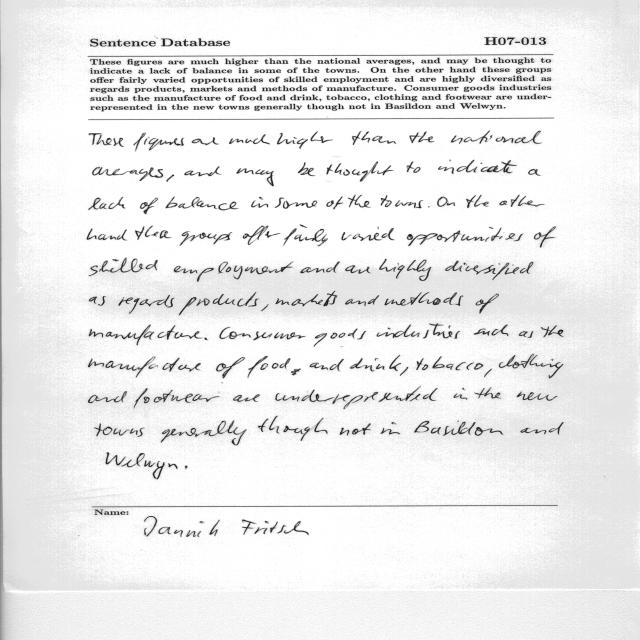word: (276, 387, 438, 409), (174, 262, 293, 282), (89, 325, 202, 346), (88, 357, 201, 378), (407, 227, 523, 246), (161, 421, 247, 446), (106, 452, 178, 479), (179, 292, 259, 315), (258, 416, 328, 441), (134, 388, 220, 408), (445, 261, 533, 280), (499, 355, 563, 379), (326, 162, 394, 182), (414, 421, 504, 436), (377, 323, 460, 339), (89, 258, 158, 276), (451, 131, 542, 144), (379, 259, 431, 281), (220, 327, 306, 340), (438, 160, 517, 174), (385, 292, 464, 306), (119, 295, 174, 314), (277, 131, 333, 149), (93, 167, 163, 181), (248, 356, 291, 378), (416, 357, 483, 371), (166, 197, 238, 210), (314, 329, 366, 347), (276, 291, 338, 306), (284, 225, 328, 246), (134, 133, 184, 151), (350, 355, 401, 371), (87, 227, 144, 241), (180, 231, 232, 246), (342, 227, 395, 241), (243, 226, 281, 245), (95, 423, 144, 437), (237, 169, 274, 187), (352, 131, 396, 145), (216, 357, 245, 378), (521, 422, 564, 435), (381, 195, 423, 208), (500, 195, 545, 207), (89, 133, 124, 147), (89, 197, 126, 210), (300, 261, 340, 273), (88, 391, 127, 403), (275, 198, 317, 209), (534, 227, 556, 248), (476, 294, 499, 313), (309, 359, 344, 371), (229, 135, 270, 145), (474, 325, 509, 336), (345, 295, 379, 306), (340, 424, 371, 436), (184, 167, 221, 177), (517, 392, 558, 401), (145, 226, 171, 239), (410, 131, 435, 143), (466, 195, 489, 208), (140, 198, 158, 214), (348, 195, 370, 208), (475, 388, 501, 399), (541, 326, 563, 337), (298, 162, 315, 176), (345, 265, 371, 274), (381, 422, 400, 434), (327, 197, 344, 210), (192, 137, 219, 145), (233, 394, 260, 402), (251, 197, 268, 208), (437, 197, 455, 207), (89, 296, 106, 306), (407, 161, 421, 173), (454, 388, 468, 400), (519, 331, 533, 338), (529, 169, 541, 176), (400, 367, 408, 376), (291, 369, 301, 376), (484, 369, 492, 377), (167, 175, 174, 182), (262, 304, 269, 311), (205, 338, 208, 340), (185, 466, 187, 469), (428, 207, 430, 208)
